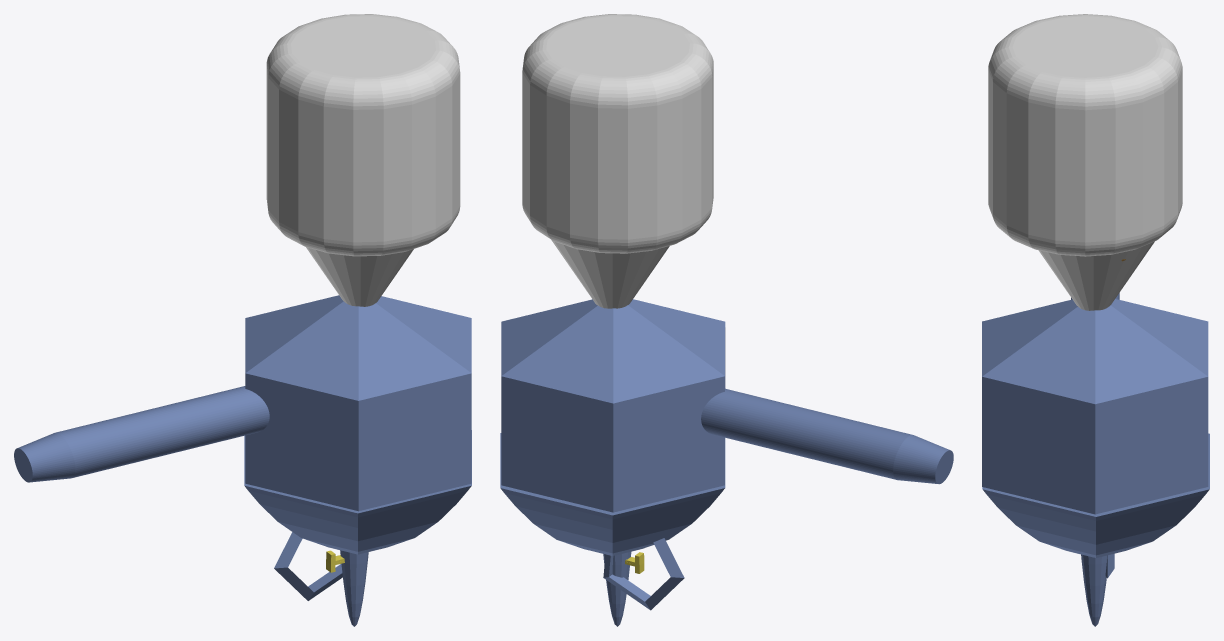
Rendered from Paintball gun.glb.
3 renders of one model, left to right at view 1: azimuth 30°, elevation 25°; view 2: azimuth 150°, elevation 25°; view 3: azimuth 270°, elevation 25°, orthographic.
Visible parts, largest first — view 1: Mesh_Mesh_head_geo.001_lambert2SG.001; view 2: Mesh_Mesh_head_geo.001_lambert2SG.001; view 3: Mesh_Mesh_head_geo.001_lambert2SG.001.
Boxes of the visible parts, x1,y1,x2,y2 form: Mesh_Mesh_head_geo.001_lambert2SG.001: (14,14,471,626); Mesh_Mesh_head_geo.001_lambert2SG.001: (500,14,953,626); Mesh_Mesh_head_geo.001_lambert2SG.001: (982,14,1209,626).
Bounding box in the file's own units: 53.48 × 66 × 23.42.
